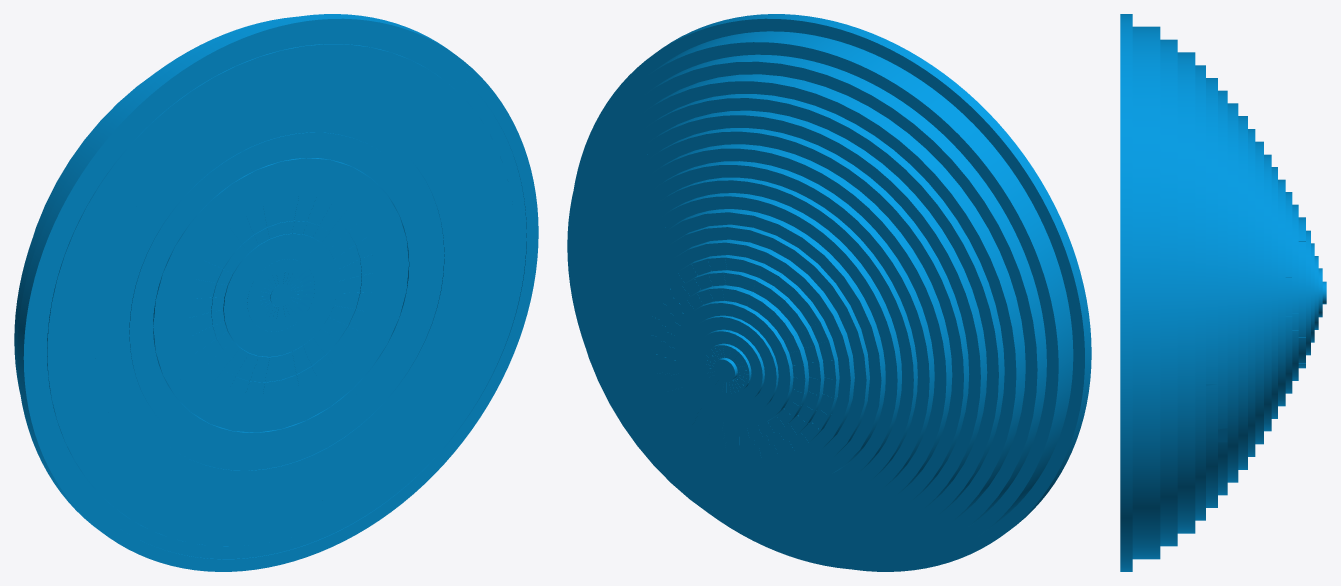
The model's file is cortezas acumulado.fbx.
3 views of the same model, side by side, from view 1: azimuth 30°, elevation 25°; view 2: azimuth 150°, elevation 25°; view 3: azimuth 270°, elevation 25° (orthographic). The views are drawn at different scales.
Parts seen in each view (by area): view 1: polySurface49, polySurface46, polySurface50, polySurface51, polySurface52, polySurface53, polySurface54, polySurface55, polySurface45, polySurface56, polySurface57, polySurface58 (+9 smaller); view 2: polySurface46, polySurface51, polySurface50, polySurface49, polySurface52, polySurface53, polySurface54, polySurface55, polySurface45, polySurface56, polySurface57, polySurface58 (+9 smaller); view 3: polySurface46, polySurface51, polySurface50, polySurface49, polySurface53, polySurface52, polySurface55, polySurface54, polySurface45, polySurface57, polySurface56, polySurface58 (+8 smaller).
Part boxes in pixels (left/top/right/bottom): polySurface49: left=17, top=14, right=538, bottom=571; polySurface46: left=14, top=16, right=526, bottom=559; polySurface50: left=34, top=44, right=514, bottom=546; polySurface51: left=35, top=56, right=503, bottom=533; polySurface52: left=71, top=69, right=491, bottom=521; polySurface53: left=82, top=82, right=479, bottom=508; polySurface54: left=94, top=94, right=467, bottom=495; polySurface55: left=106, top=107, right=456, bottom=483; polySurface45: left=118, top=120, right=444, bottom=470; polySurface56: left=129, top=132, right=432, bottom=458; polySurface57: left=141, top=145, right=420, bottom=445; polySurface58: left=153, top=158, right=408, bottom=432; polySurface46: left=567, top=31, right=1073, bottom=569; polySurface51: left=572, top=74, right=1025, bottom=558; polySurface50: left=569, top=54, right=1046, bottom=563; polySurface49: left=574, top=14, right=1091, bottom=571; polySurface52: left=578, top=94, right=1004, bottom=549; polySurface53: left=583, top=110, right=987, bottom=541; polySurface54: left=590, top=128, right=969, bottom=532; polySurface55: left=596, top=144, right=952, bottom=524; polySurface45: left=603, top=161, right=934, bottom=515; polySurface56: left=610, top=177, right=917, bottom=505; polySurface57: left=618, top=193, right=901, bottom=496; polySurface58: left=626, top=209, right=885, bottom=486; polySurface46: left=1132, top=26, right=1160, bottom=559; polySurface51: left=1177, top=52, right=1195, bottom=533; polySurface50: left=1160, top=39, right=1177, bottom=546; polySurface49: left=1120, top=14, right=1132, bottom=571; polySurface53: left=1206, top=78, right=1217, bottom=507; polySurface52: left=1195, top=65, right=1205, bottom=520; polySurface55: left=1227, top=103, right=1238, bottom=482; polySurface54: left=1218, top=90, right=1227, bottom=495; polySurface45: left=1238, top=116, right=1247, bottom=469; polySurface57: left=1255, top=141, right=1263, bottom=444; polySurface56: left=1248, top=129, right=1255, bottom=456; polySurface58: left=1264, top=154, right=1271, bottom=431.
Size of the model in its own units: 38.96 by 38.96 by 14.39.
